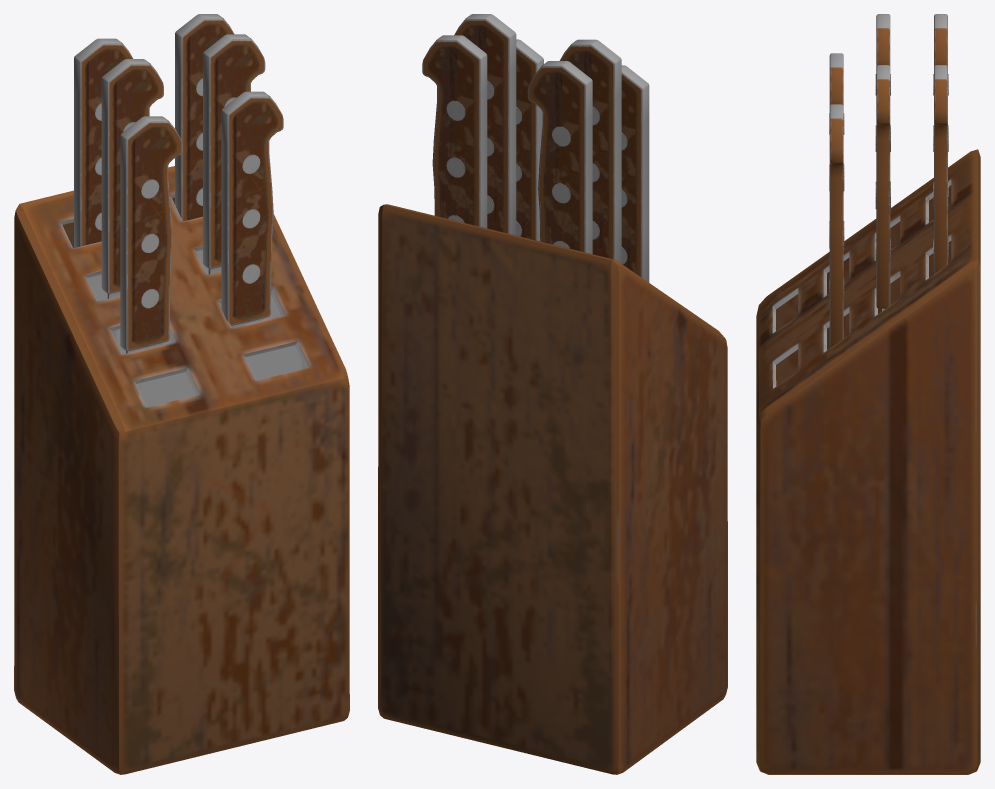
The model's file is knifeholder.fbx.
The picture shows the model from 3 angles, left to right: view 1: azimuth 30°, elevation 25°; view 2: azimuth 150°, elevation 25°; view 3: azimuth 270°, elevation 25°; orthographic projection. The views are drawn at different scales.
Visible parts, largest first — view 1: knife_holder, holder_prop; view 2: knife_holder, holder_prop; view 3: knife_holder, holder_prop.
Boxes of the visible parts, bbox=[...] form: knife_holder: bbox=[14, 166, 349, 774]; holder_prop: bbox=[74, 14, 305, 407]; knife_holder: bbox=[378, 204, 727, 774]; holder_prop: bbox=[422, 14, 649, 282]; knife_holder: bbox=[756, 149, 980, 774]; holder_prop: bbox=[829, 14, 948, 347].
Bounding box in the file's own units: 29.42 × 78.49 × 23.4.
